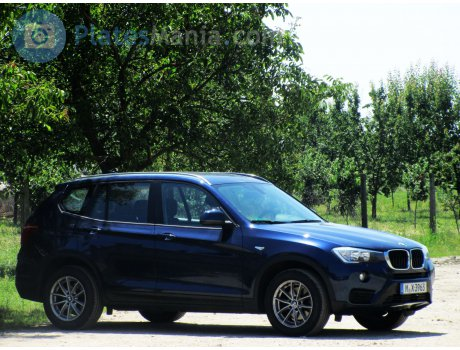License Plates: (405, 283, 430, 293)
